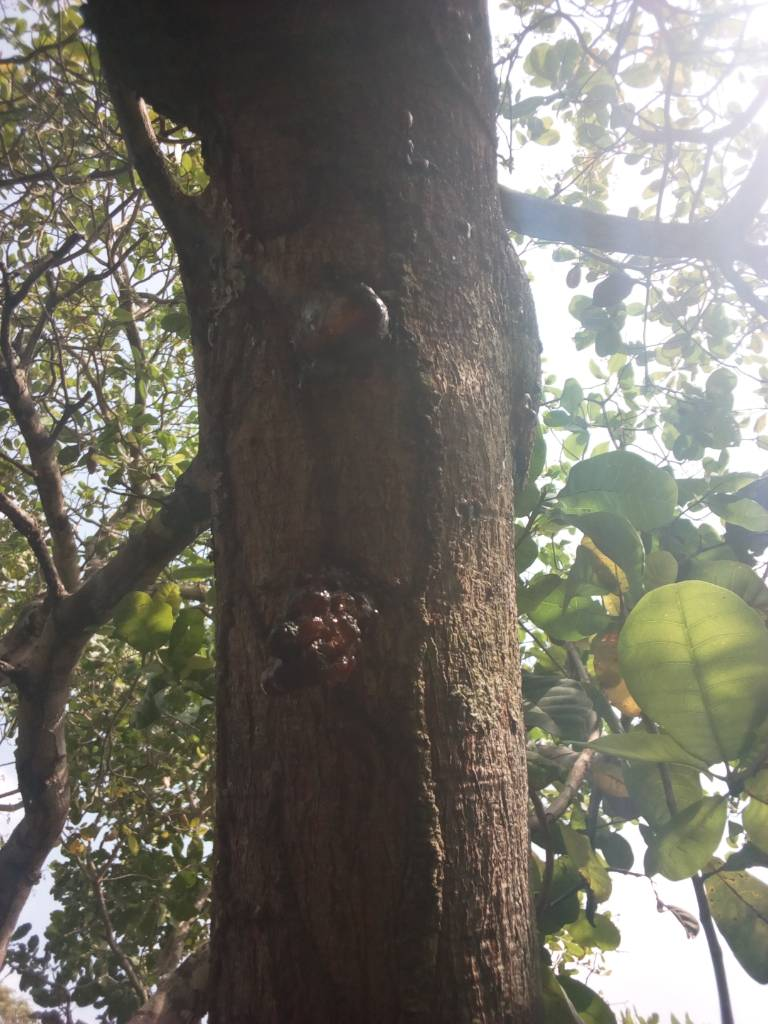Gommose: (275, 272, 399, 377), (263, 583, 360, 702)
